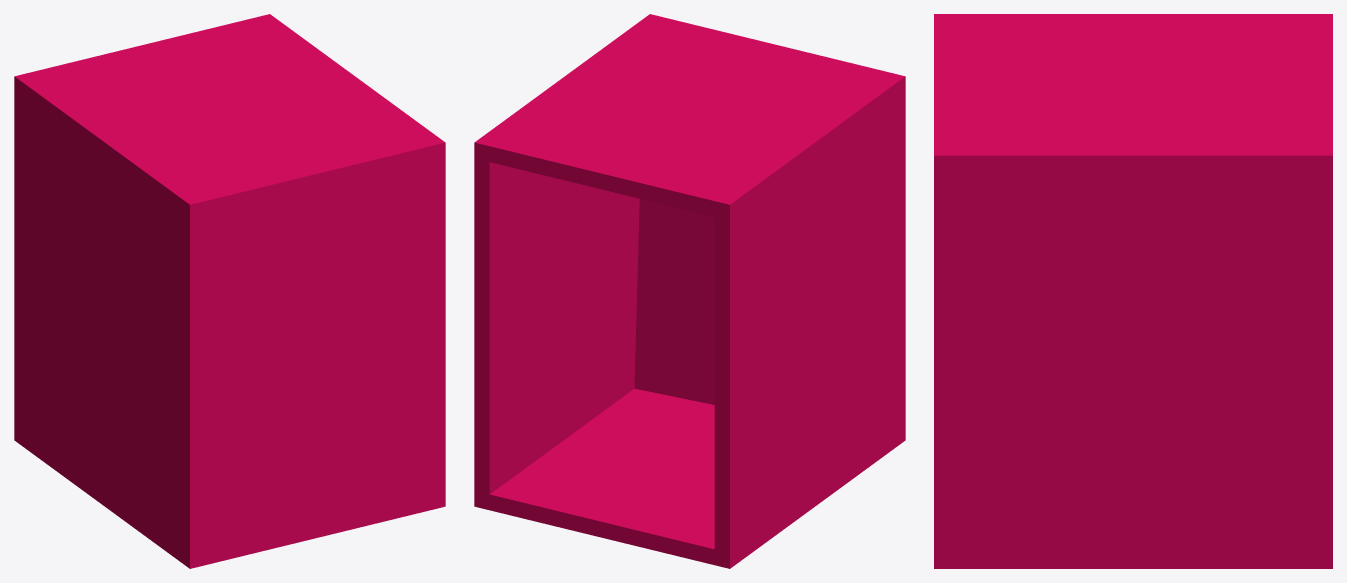
File: Desk_03_Collider.fbx
The picture shows the model from 3 angles, left to right: view 1: azimuth 30°, elevation 25°; view 2: azimuth 150°, elevation 25°; view 3: azimuth 270°, elevation 25°; orthographic projection. The views are drawn at different scales.
Visible parts, largest first — view 1: Desk_03_Collider; view 2: Desk_03_Collider; view 3: Desk_03_Collider.
Part boxes in pixels (x1,y1,x2,y2): Desk_03_Collider: (14,14,445,568); Desk_03_Collider: (474,14,905,568); Desk_03_Collider: (934,14,1332,568).
Bounding box in the file's own units: 40.36 × 54.96 × 48.04.
